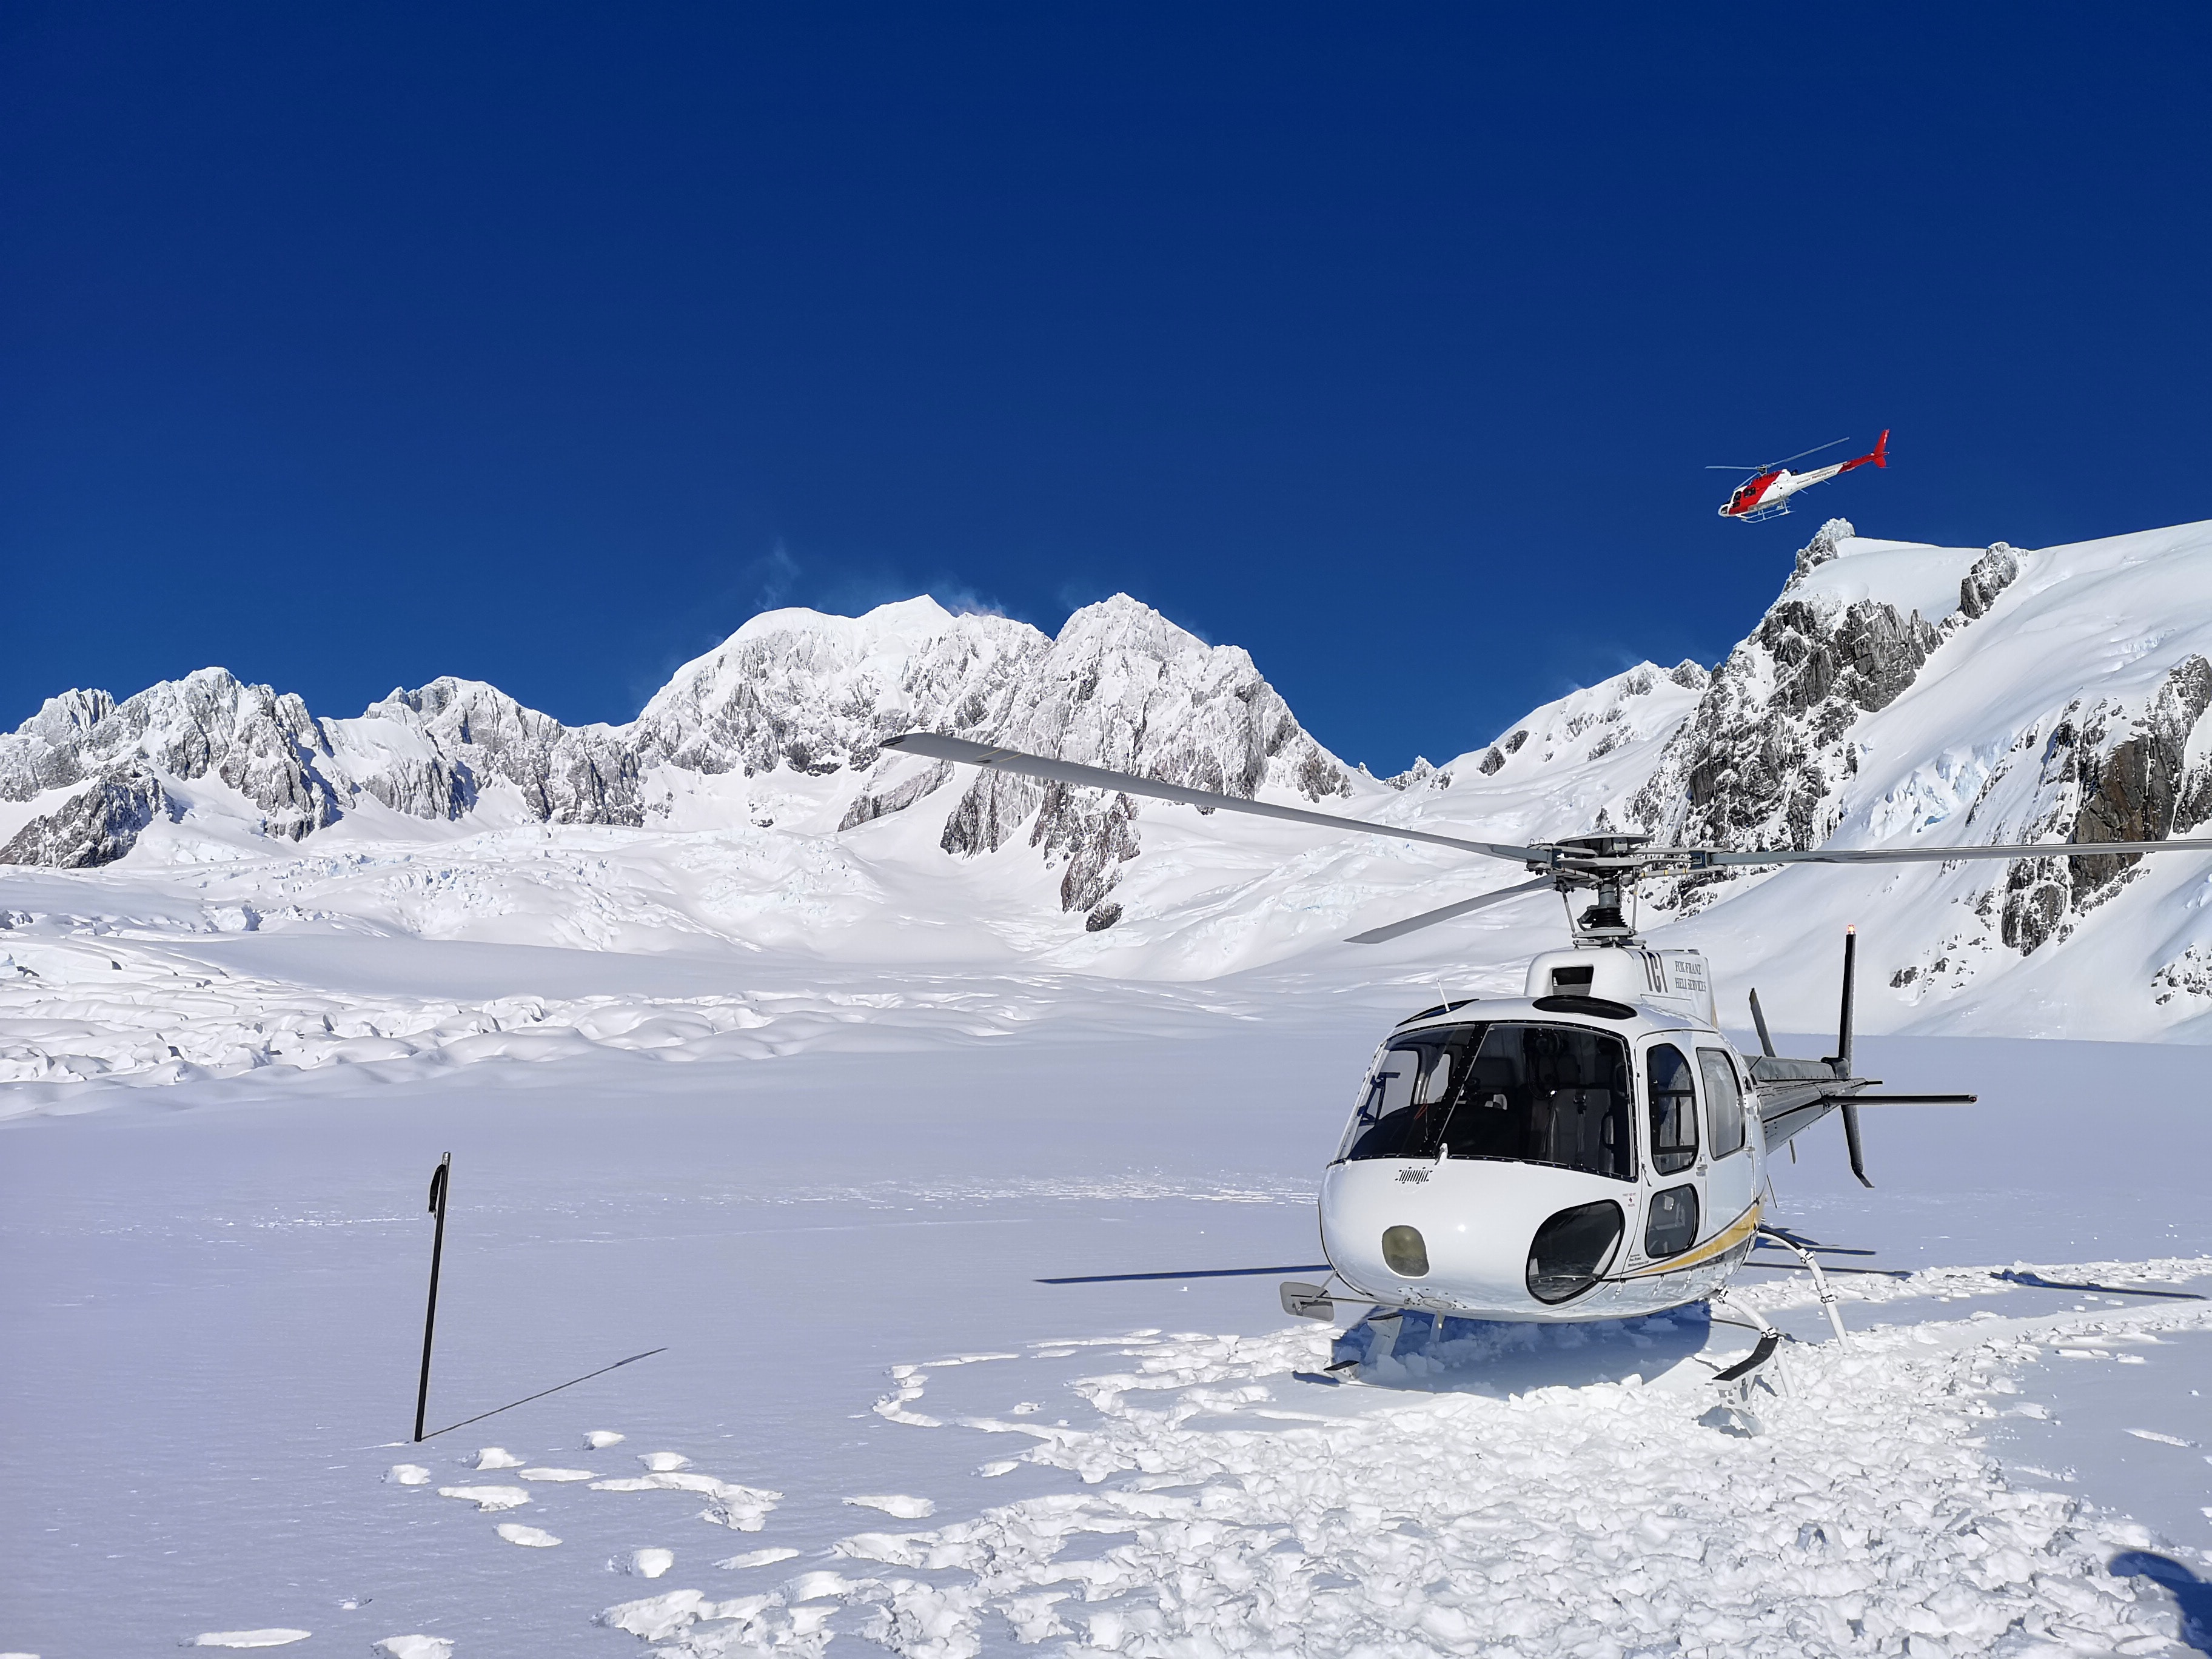helicopter: (834, 645, 2212, 1457)
